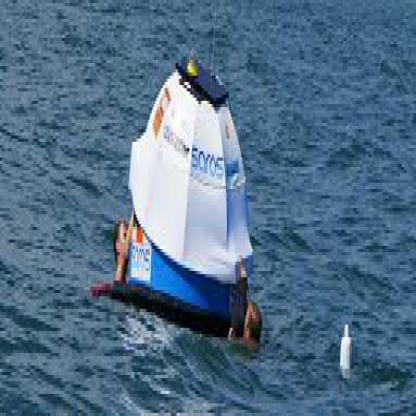buoy: (80, 35, 276, 372)
